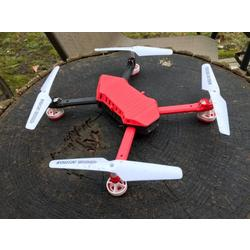drone: (21, 44, 232, 197)
